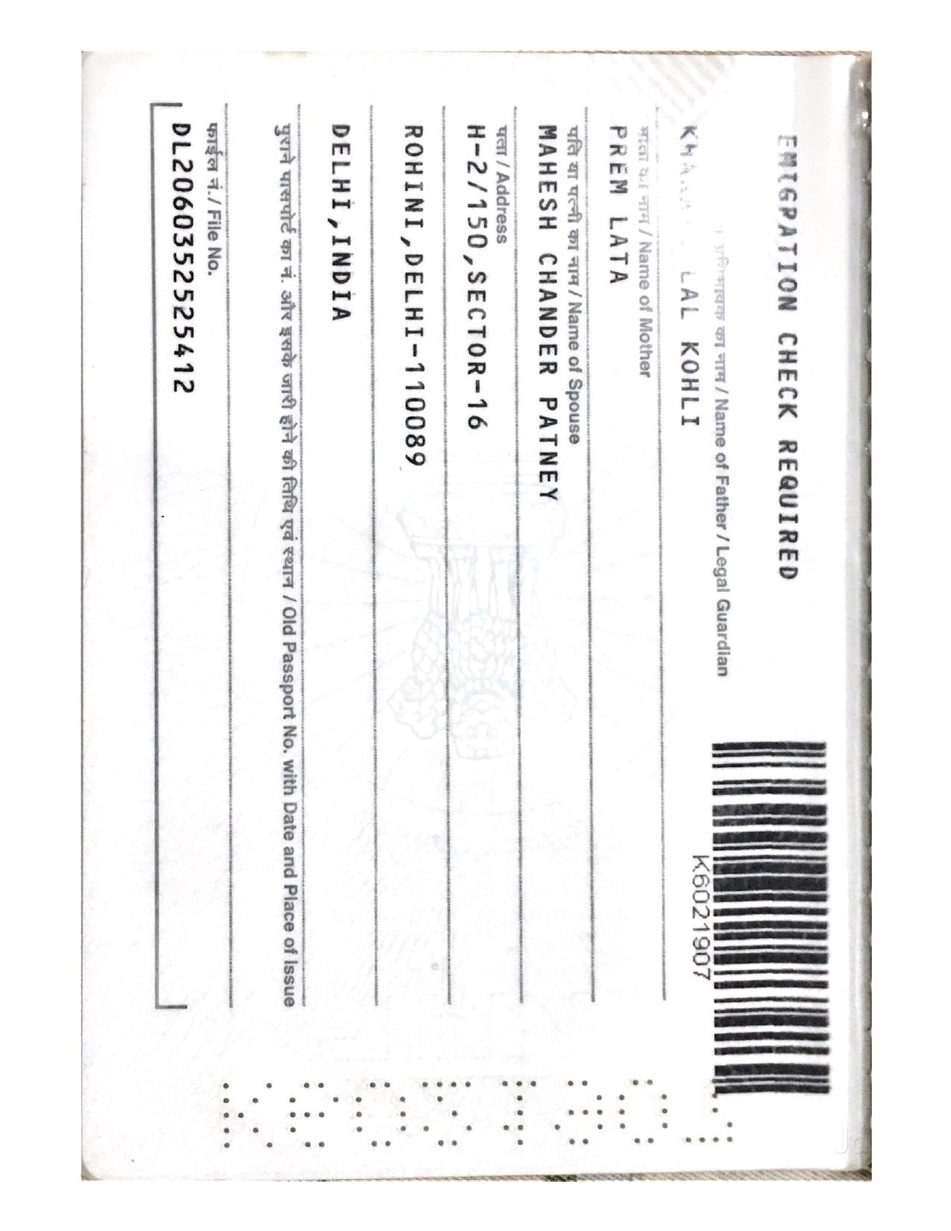File_no: (162, 114, 203, 433)
address: (319, 110, 502, 517)
father_name: (669, 104, 713, 473)
mother_name: (589, 97, 641, 317)
passport_no: (679, 837, 718, 1005)
spouse_name: (525, 114, 572, 519)
